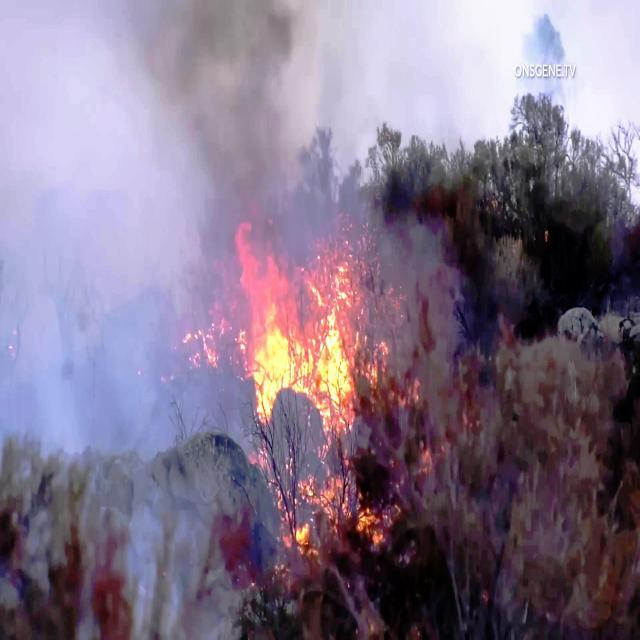Fire: (241, 237, 354, 406)
Smoke: (61, 0, 290, 224)
